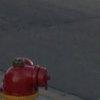Hydrant: (2, 42, 53, 100)
